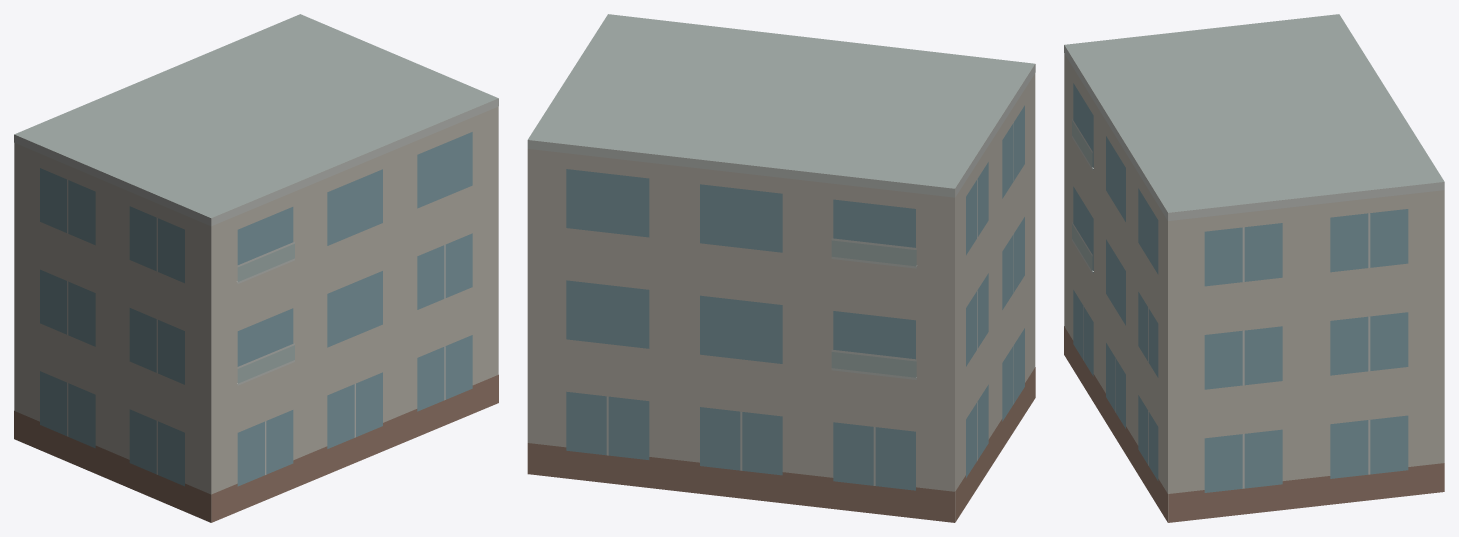
The model's file is survey-upis-32715888.glb.
The picture shows the model from 3 angles, left to right: view 1: azimuth 30°, elevation 25°; view 2: azimuth 150°, elevation 25°; view 3: azimuth 270°, elevation 25°; orthographic projection. The views are drawn at different scales.
Visible parts, largest first — view 1: survey-upis-32715888.tmp; view 2: survey-upis-32715888.tmp; view 3: survey-upis-32715888.tmp.
Part boxes in pixels (x1,y1,x2,y2): survey-upis-32715888.tmp: (14,14,498,522); survey-upis-32715888.tmp: (527,14,1035,522); survey-upis-32715888.tmp: (1064,14,1444,522).
Size of the model in its own units: 12.6 by 9.15 by 10.19.
